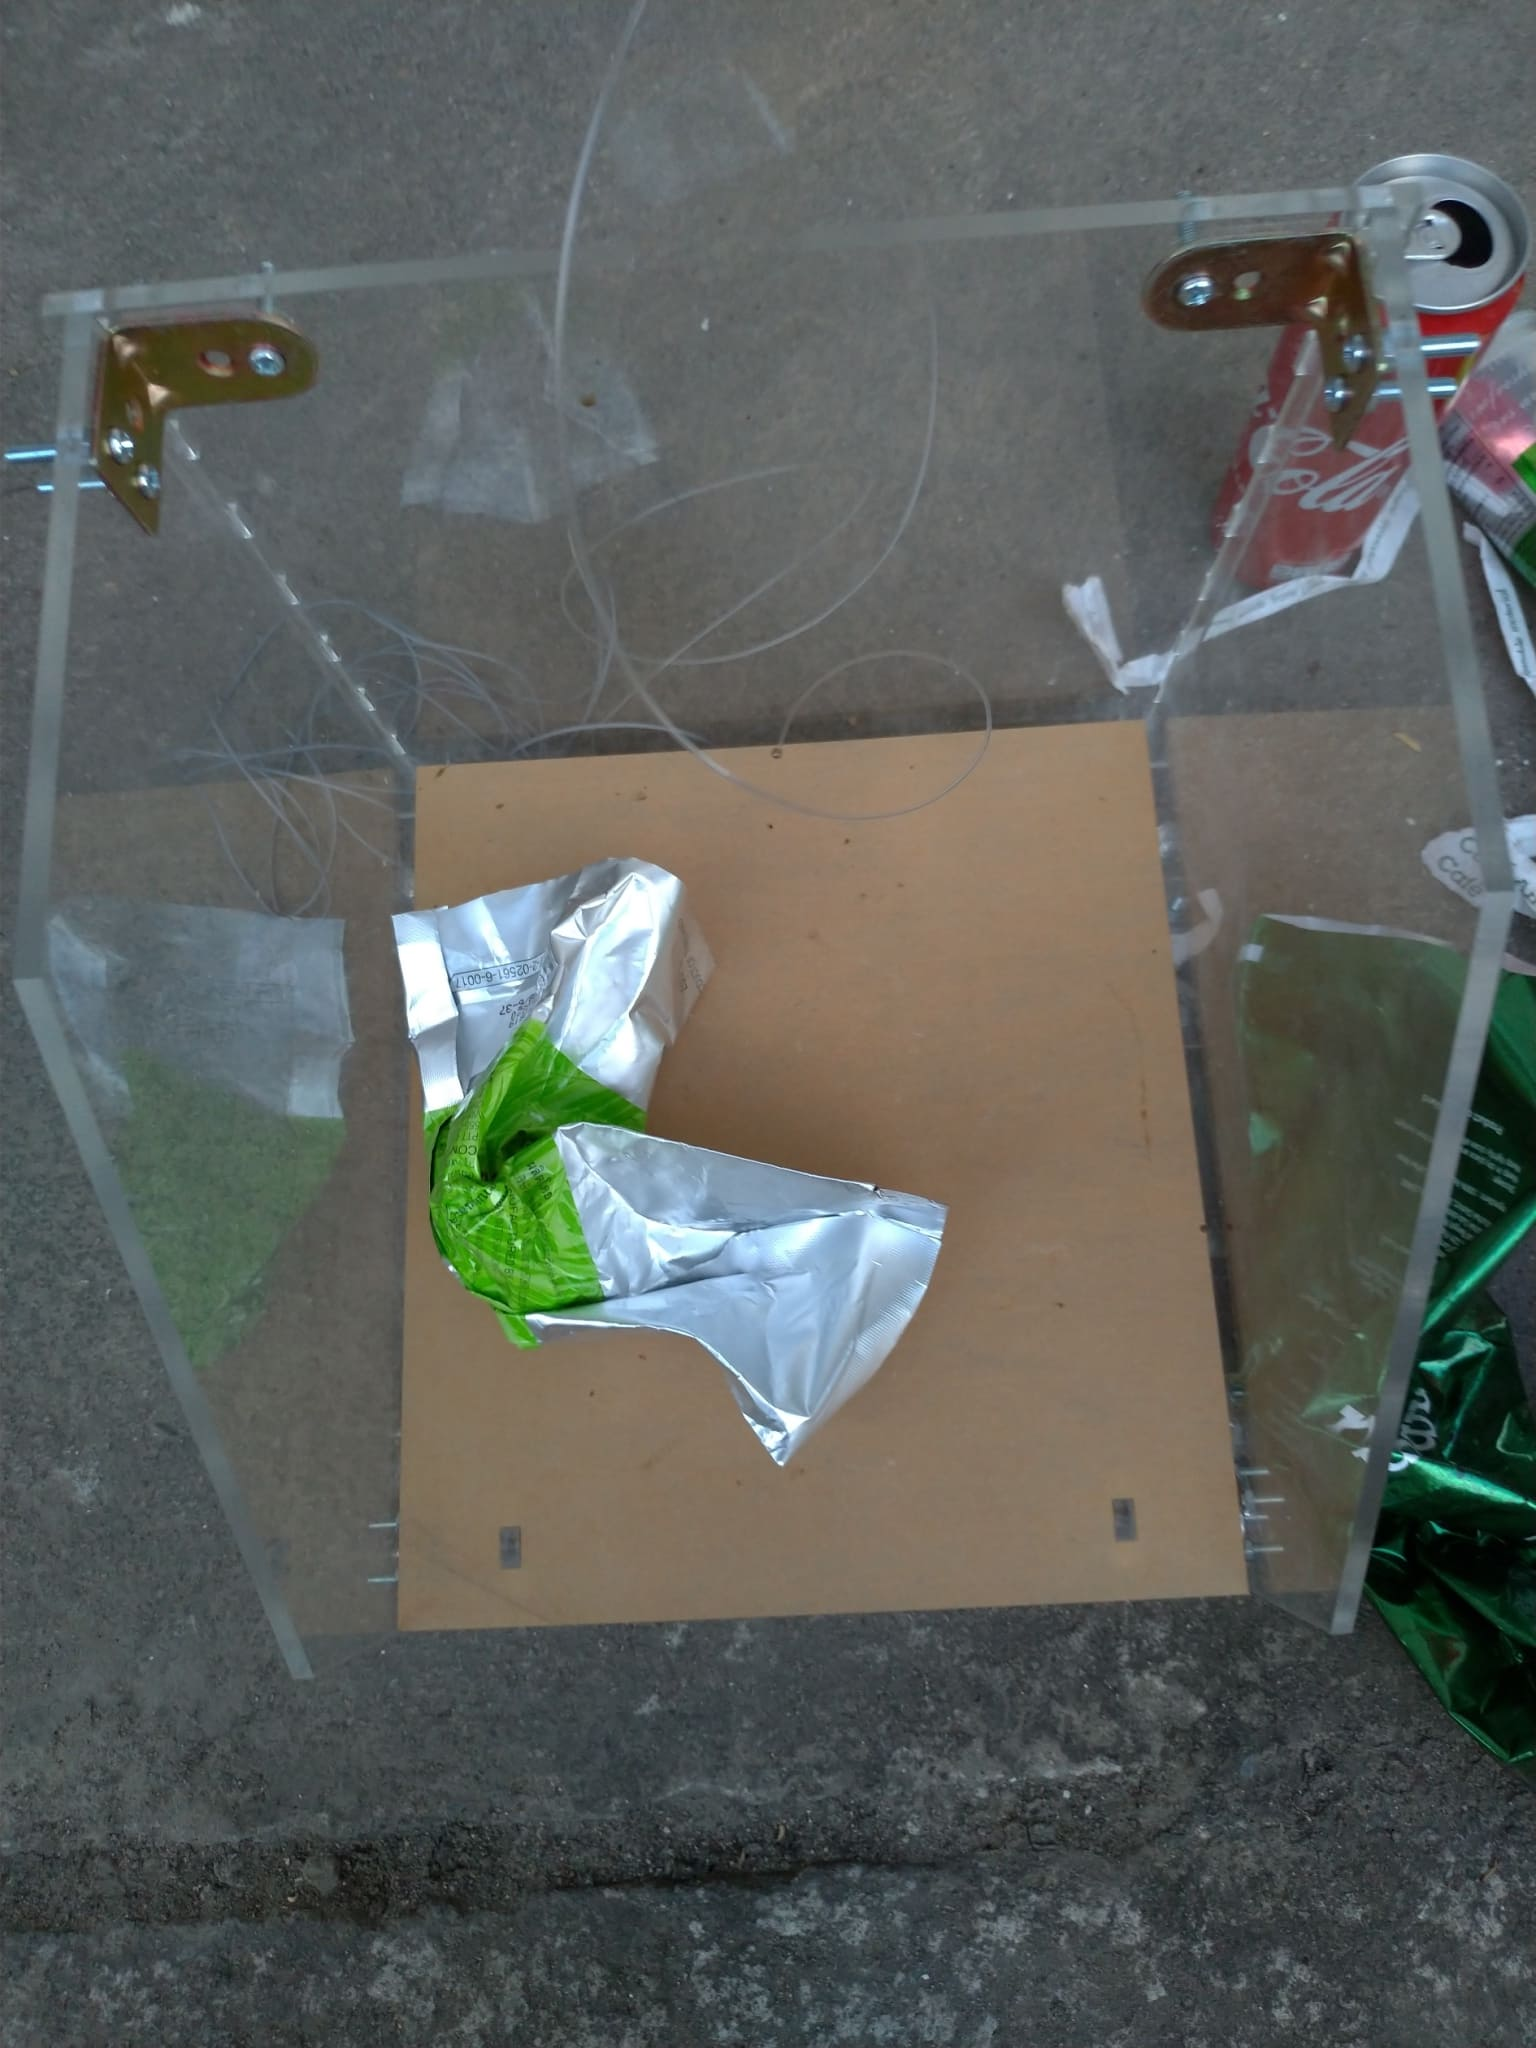AlCan: (1205, 148, 1530, 593)
Others: (390, 858, 949, 1461), (1225, 910, 1536, 1775), (1058, 503, 1412, 687), (1433, 526, 1536, 906)
